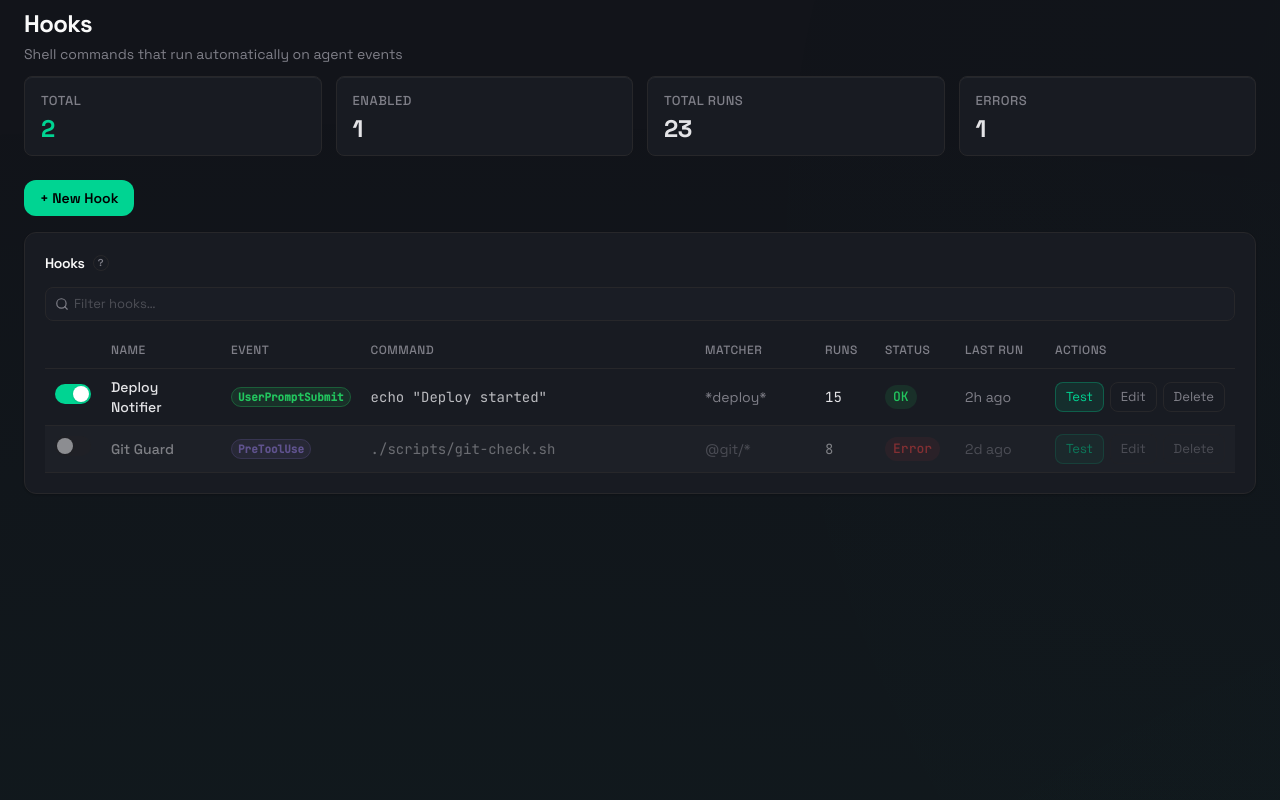
HooksPage Integration Tests › tests a hook
The image size is (1280, 800).
Expected: the text "Deploy Notifier" is shown, [101,368,221,425]
Note: Find the Test button for Deploy Notifier (first hook)
Click the button "Test" in the row of "Deploy Notifier" at (1079, 397), box [1055,382,1104,412]
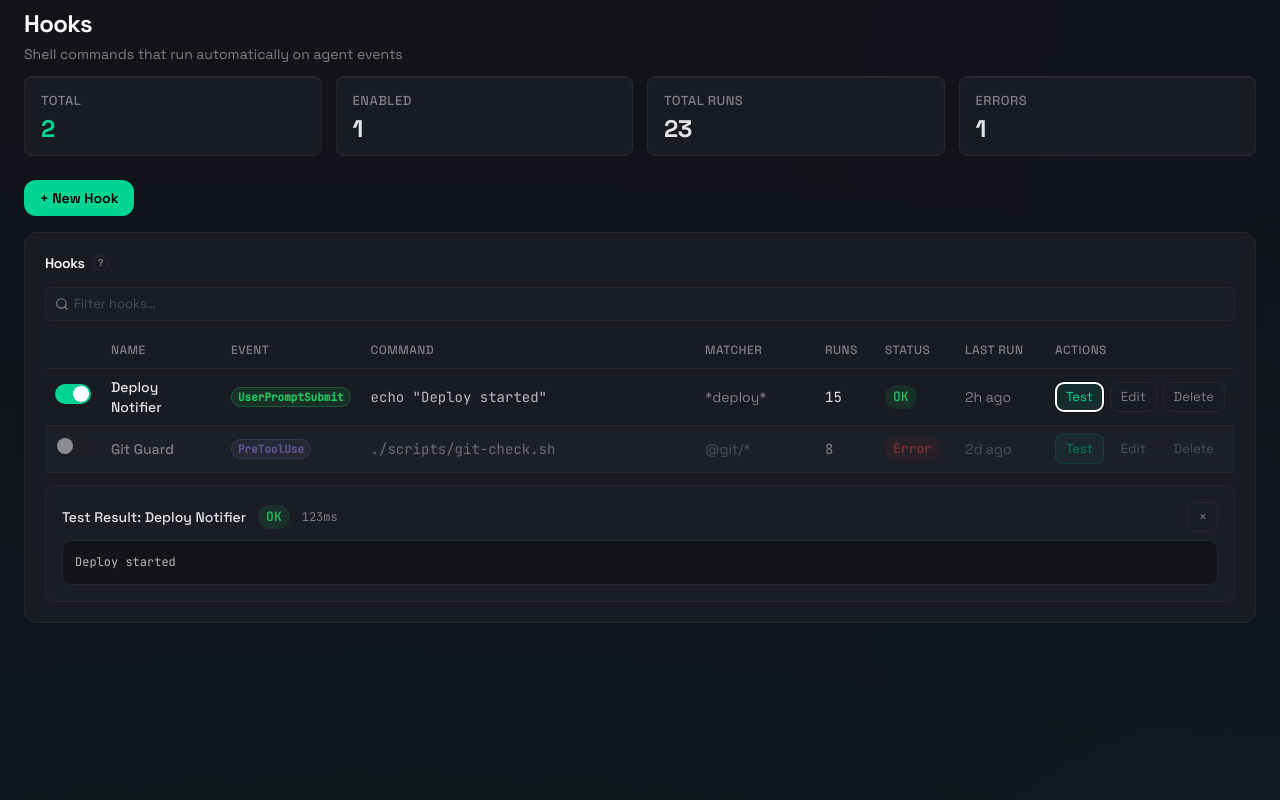
Result: the text "Test Result: Deploy Notifier" is shown at [62,507,246,527]
Result: the text "123ms" is shown at [302,508,338,526]
Result: the text "Deploy started" is shown at [62,540,1218,585]
